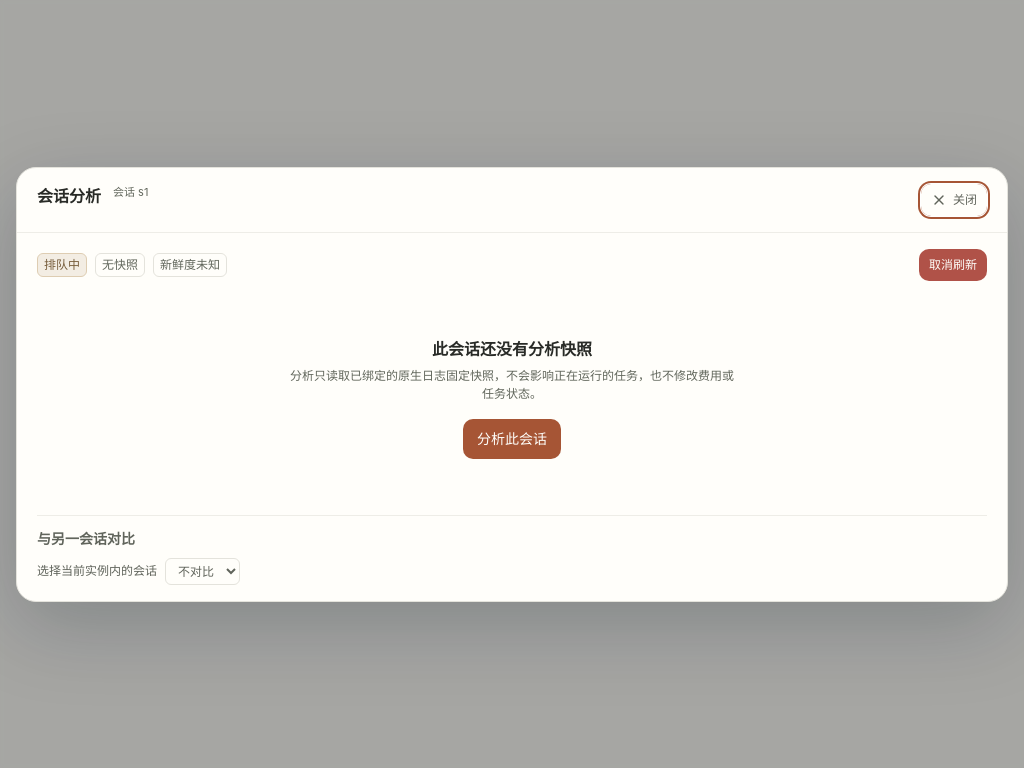
it: SessionInsightPanel 未分析 / 刷新 / 取消 › queued 时可以取消刷新：DELETE 对应 requestId，取消后状态更新
Click the button "取消刷新".
click(953, 264)  # box [919,248,987,280]
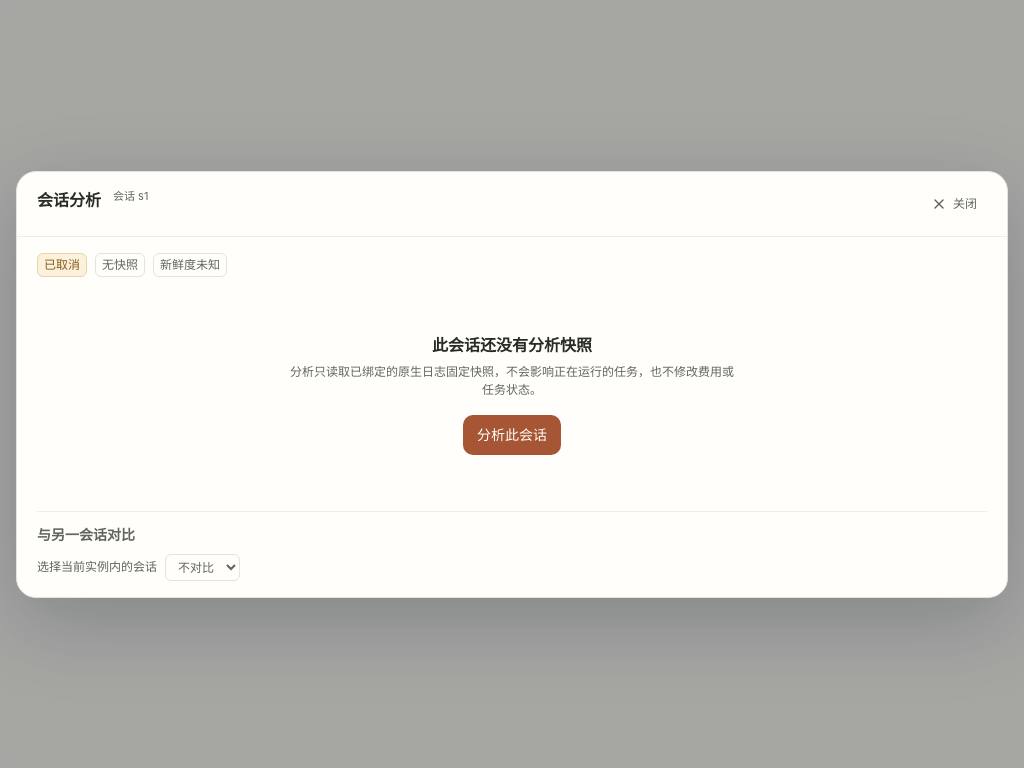
Result: the text "已取消" is shown at [37,252,87,276]
